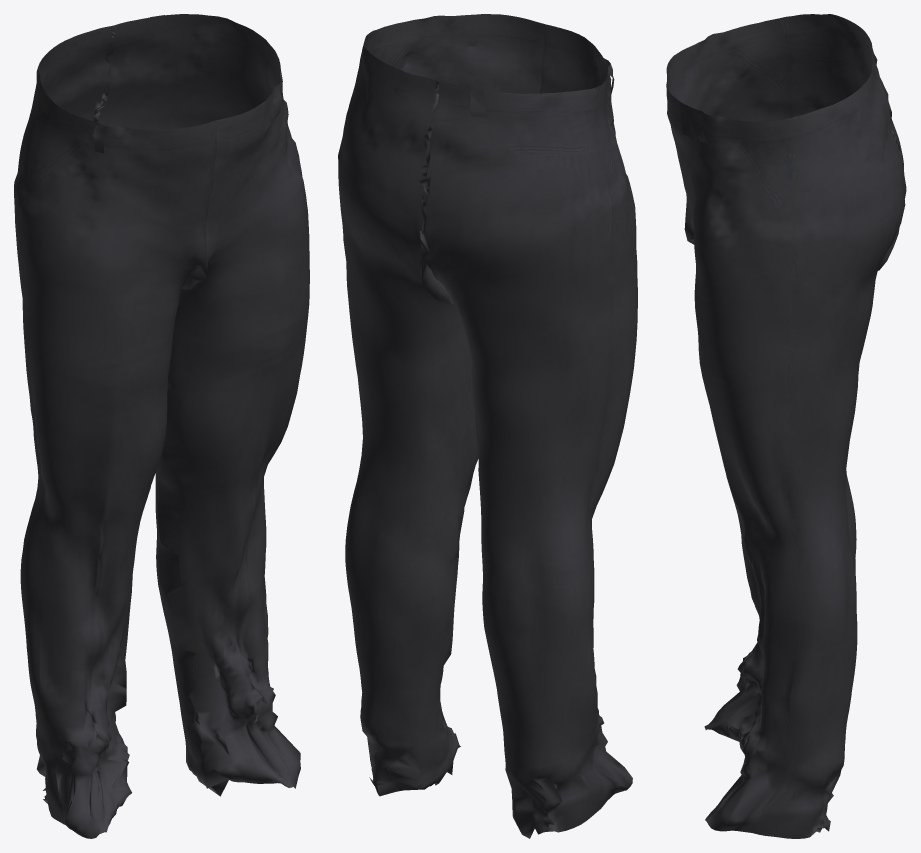
Rendered from trousers-charcoal.glb.
3 views of the same model, side by side, from view 1: azimuth 30°, elevation 25°; view 2: azimuth 150°, elevation 25°; view 3: azimuth 270°, elevation 25° (orthographic). The views are drawn at different scales.
Visible parts, largest first — view 1: trousers-charcoal; view 2: trousers-charcoal; view 3: trousers-charcoal.
Part boxes in pixels (x1=…): trousers-charcoal: x1=14, y1=14, x2=309, y2=838; trousers-charcoal: x1=338, y1=14, x2=637, y2=838; trousers-charcoal: x1=666, y1=14, x2=906, y2=838.
Size of the model in its own units: 0.4107 by 1.1 by 0.3233.
1 material, 1 textured.
